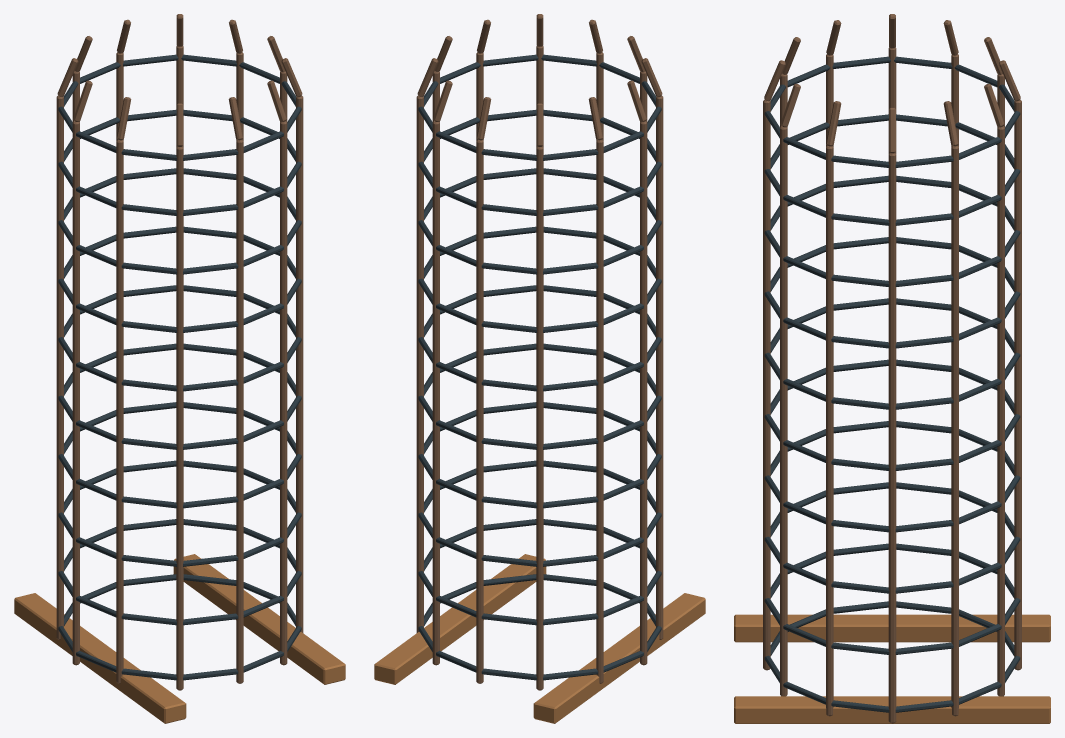
File: b07_circular_foundation_rebar_cage.glb
3 renders of one model, left to right at view 1: azimuth 30°, elevation 25°; view 2: azimuth 150°, elevation 25°; view 3: azimuth 270°, elevation 25°, orthographic. The views are drawn at different scales.
Visible parts, largest first — view 1: b07_circular_foundation_rebar_cage; view 2: b07_circular_foundation_rebar_cage; view 3: b07_circular_foundation_rebar_cage.
Boxes of the visible parts, x1=… form: b07_circular_foundation_rebar_cage: x1=14, y1=14, x2=345, y2=723; b07_circular_foundation_rebar_cage: x1=374, y1=14, x2=705, y2=723; b07_circular_foundation_rebar_cage: x1=734, y1=14, x2=1050, y2=723.
Size of the model in its own units: 1.34 by 3.52 by 1.64.
